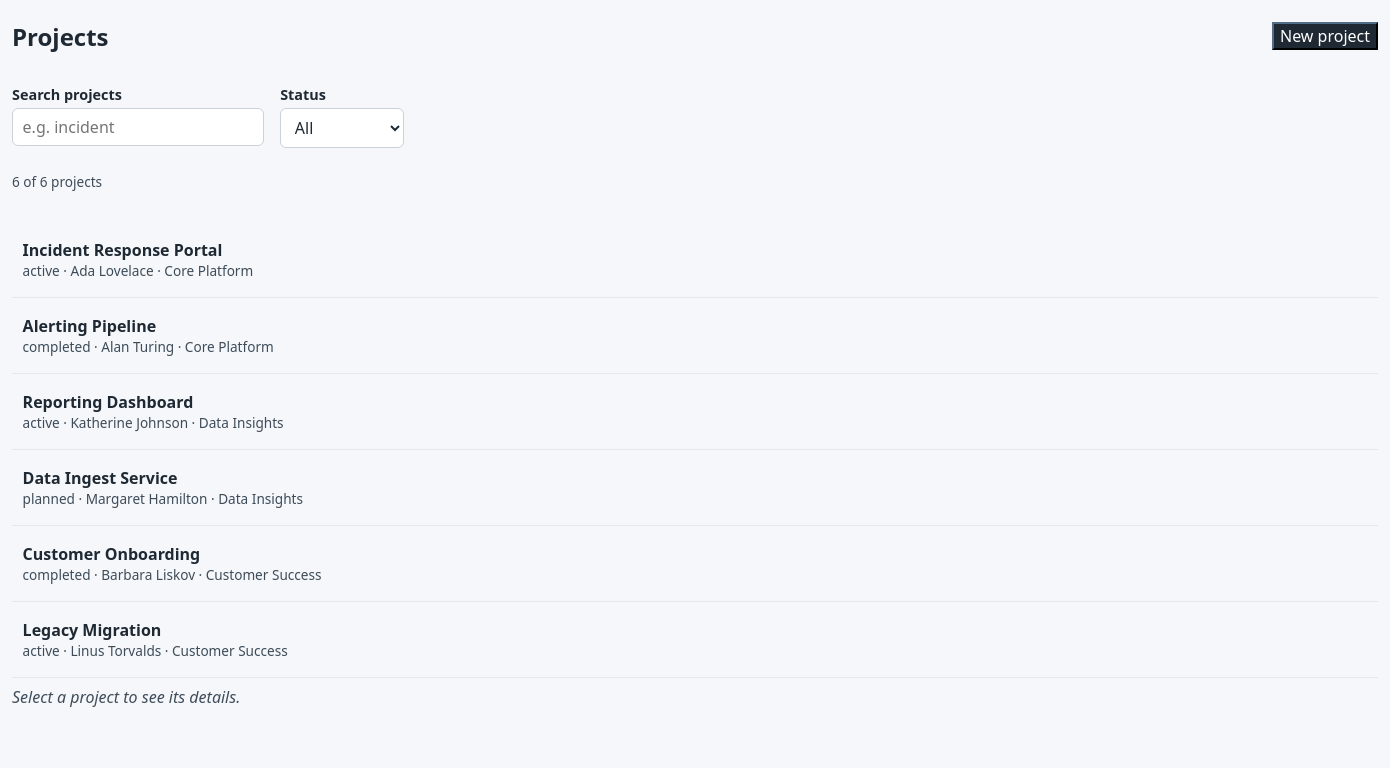
Test: ProjectsComponent › shows inline validation errors on create (PRJ-CREATE-2)
The width and height of the screenshot is (1390, 768).
Step 1. Click the button "New project" → (1325, 36), box [1272, 22, 1378, 50]
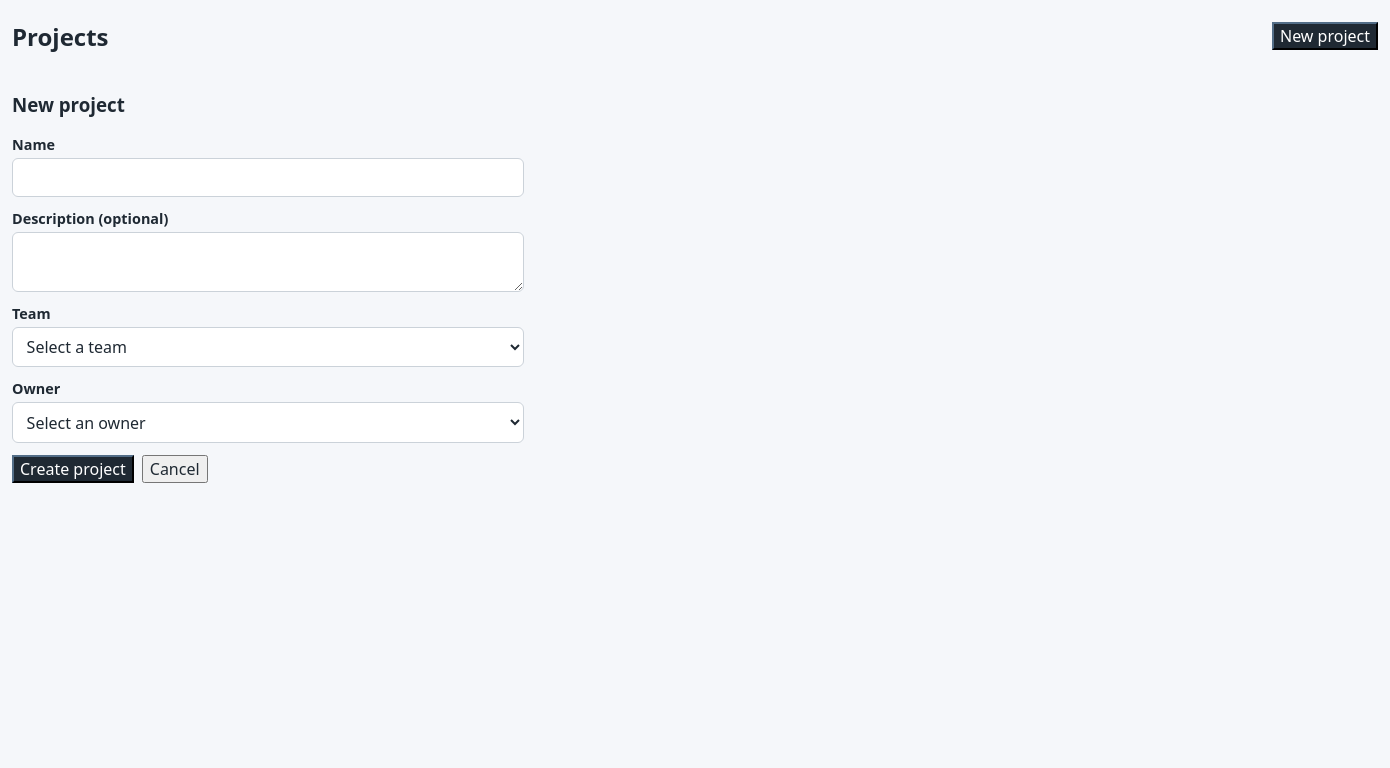
Step 2. Submit the form, box [12, 92, 524, 483]
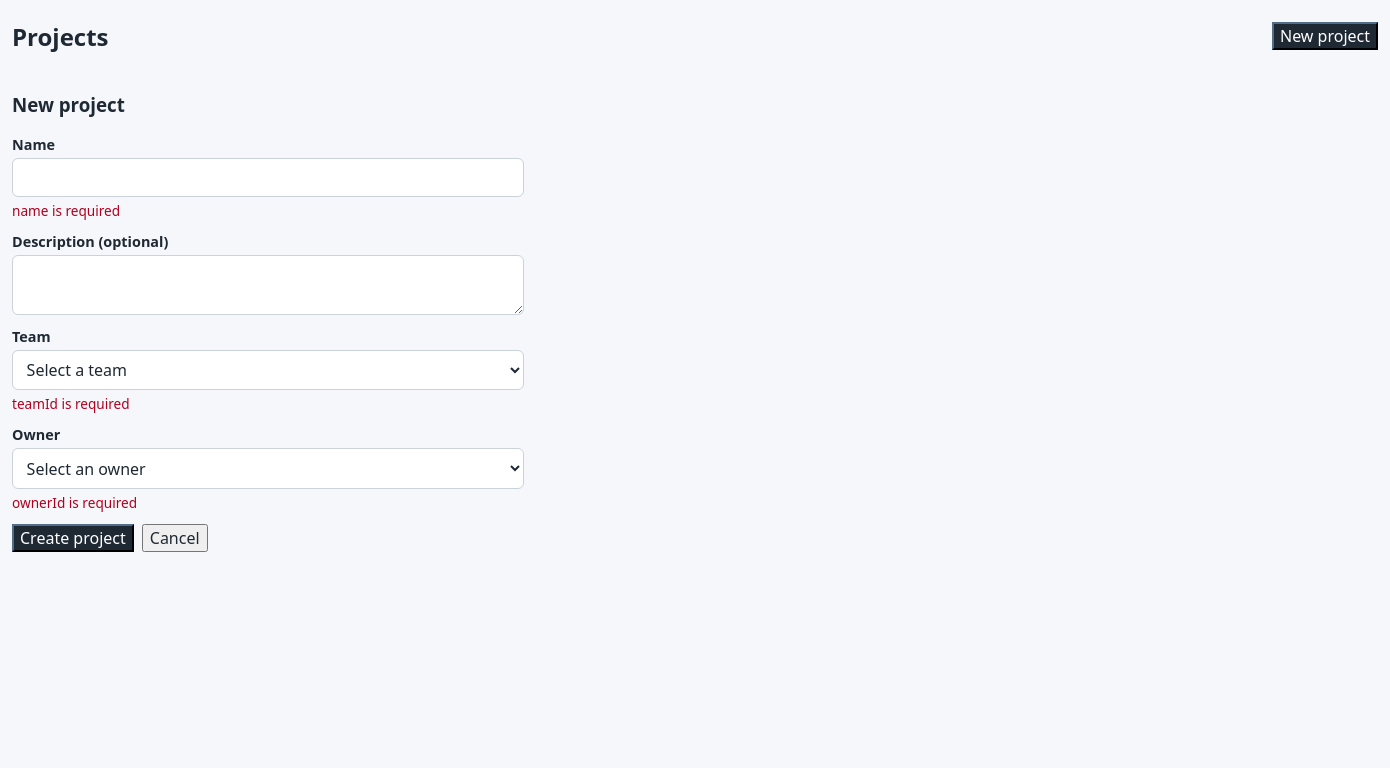
Expected: the text "name is required" is shown, [12, 201, 120, 220]
Expected: the text "teamId is required" is shown, [12, 394, 130, 413]
Expected: the text "ownerId is required" is shown, [12, 493, 137, 512]
